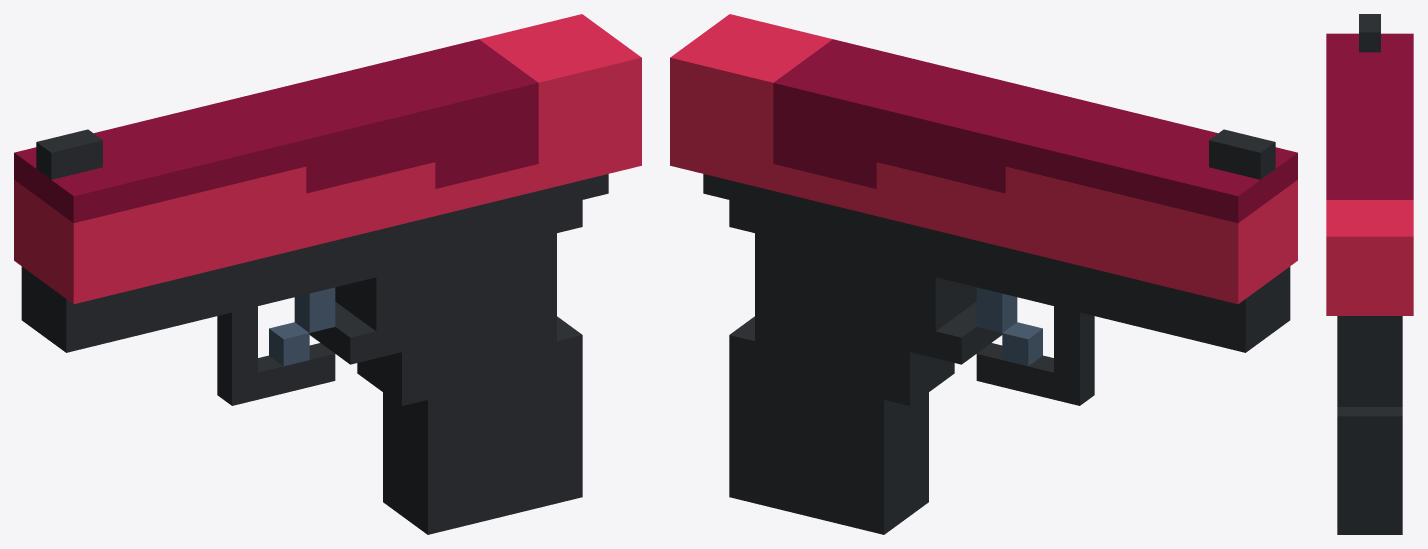
The model's file is pistol.fbx.
3 renders of one model, left to right at view 1: azimuth 30°, elevation 25°; view 2: azimuth 150°, elevation 25°; view 3: azimuth 270°, elevation 25°, orthographic. The views are drawn at different scales.
Parts seen in each view (by area): view 1: generated; view 2: generated; view 3: generated.
Boxes of the visible parts, x1,y1,x2,y2 form: generated: (14,14,641,534); generated: (670,14,1297,534); generated: (1326,14,1413,534).
Bounding box in the file's own units: 220 × 170 × 40.
